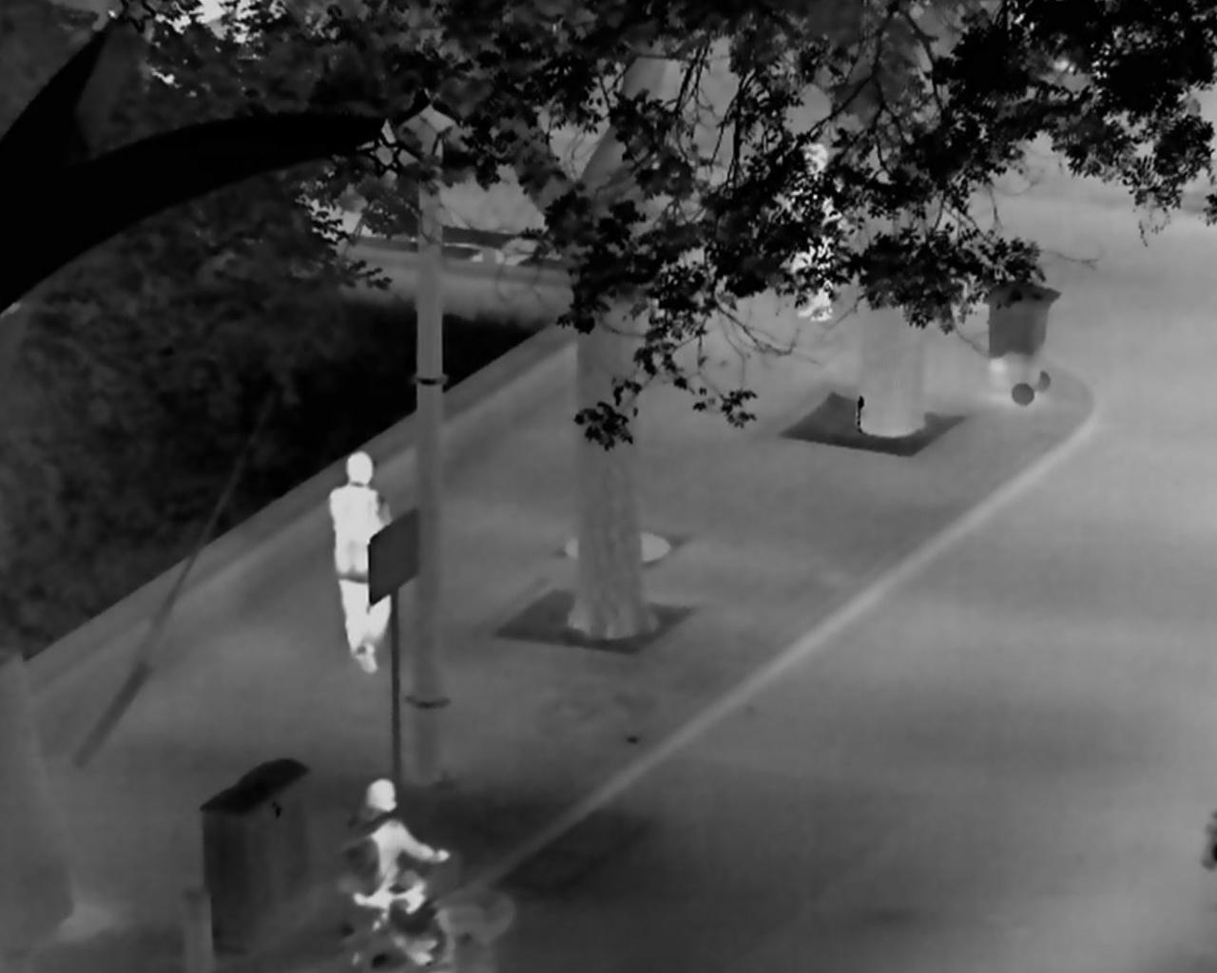person: (337, 777, 451, 967), (328, 450, 392, 674), (785, 143, 842, 324)
